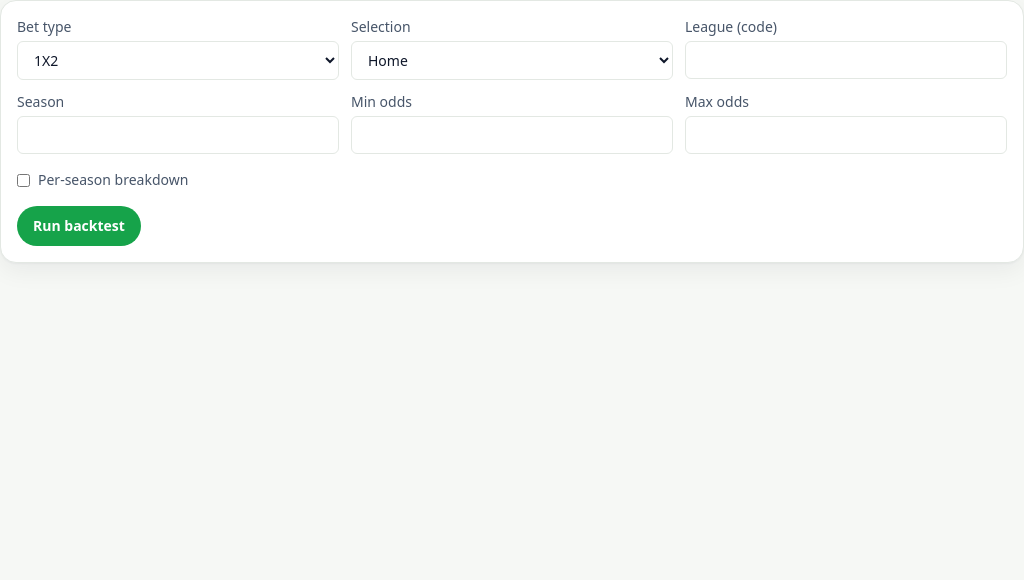
Test case: BacktesterView › runs a backtest and renders results
Click the button "Run backtest": click(79, 226) 17,206 -> 141,246
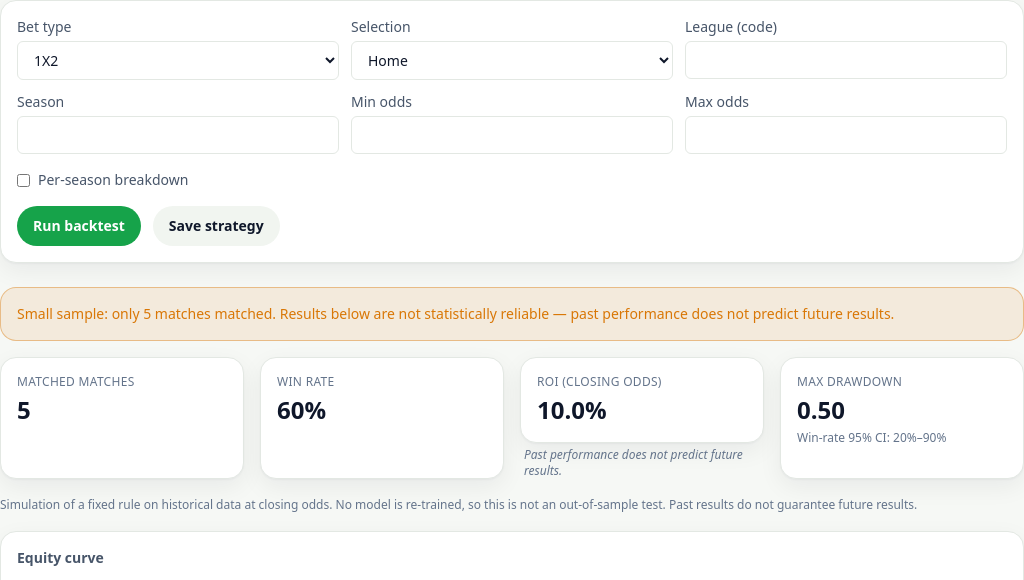
Result: the text "Matched matches" is shown at 17,373 -> 135,390
